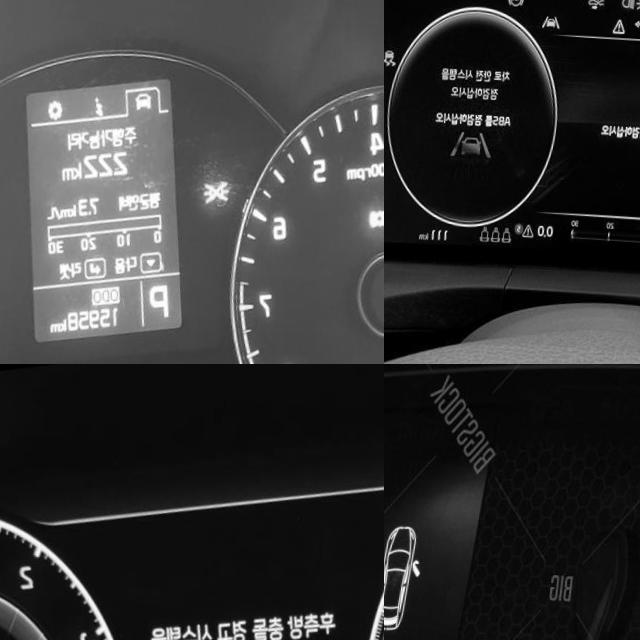Central Warning lamp: (618, 14, 633, 31)
LaneCenteringOff: (548, 12, 568, 25)
Low beam: (626, 0, 640, 5)
SideLamp: (209, 172, 240, 202)
